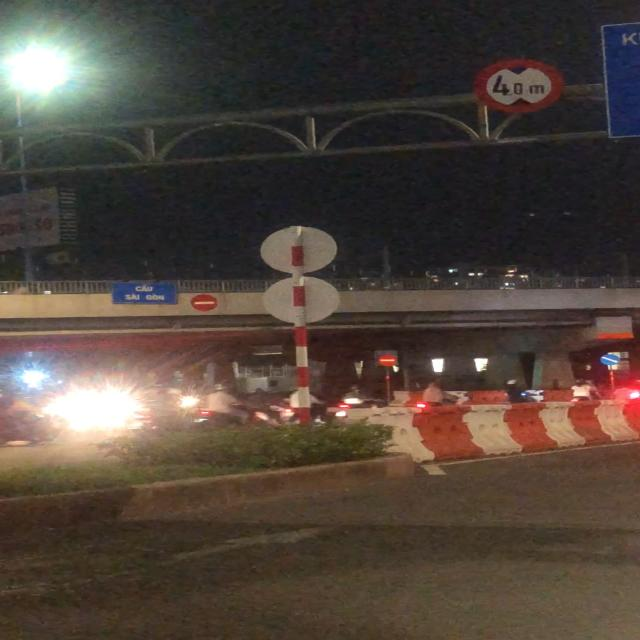Bien bao cam di nguoc chieu: (190, 293, 222, 311), (374, 353, 401, 368)
Bien bao han che chieu cao: (471, 58, 574, 114)
Bien bao huong phai di vong chuong ngai vat: (597, 353, 621, 366)
